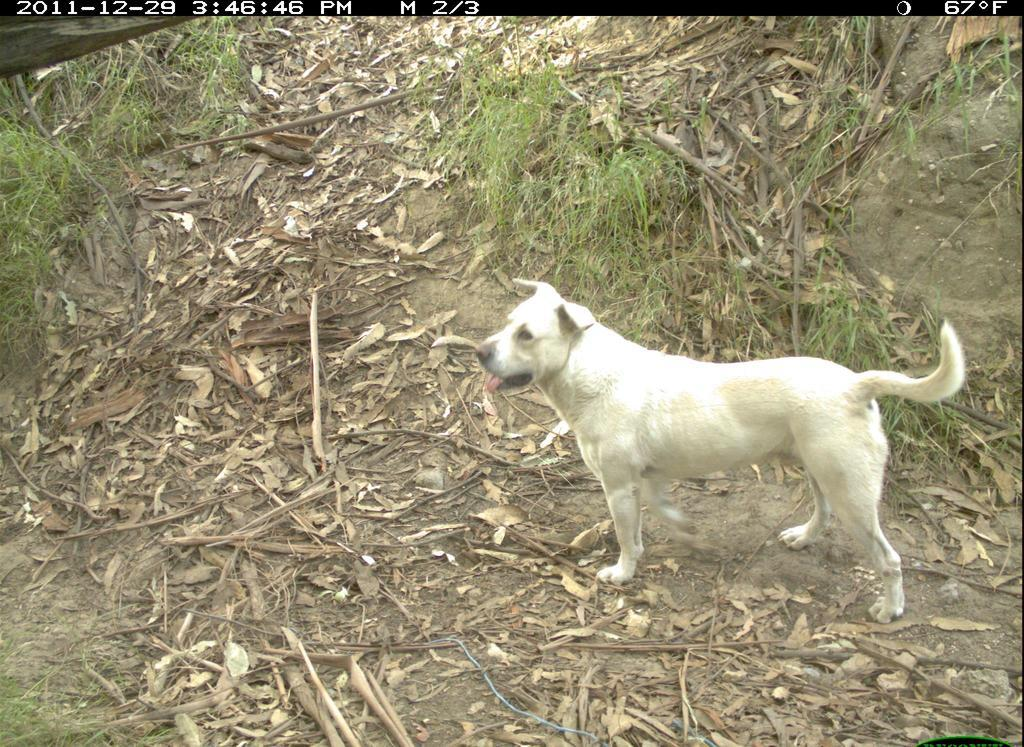dog: (474, 267, 982, 637)
